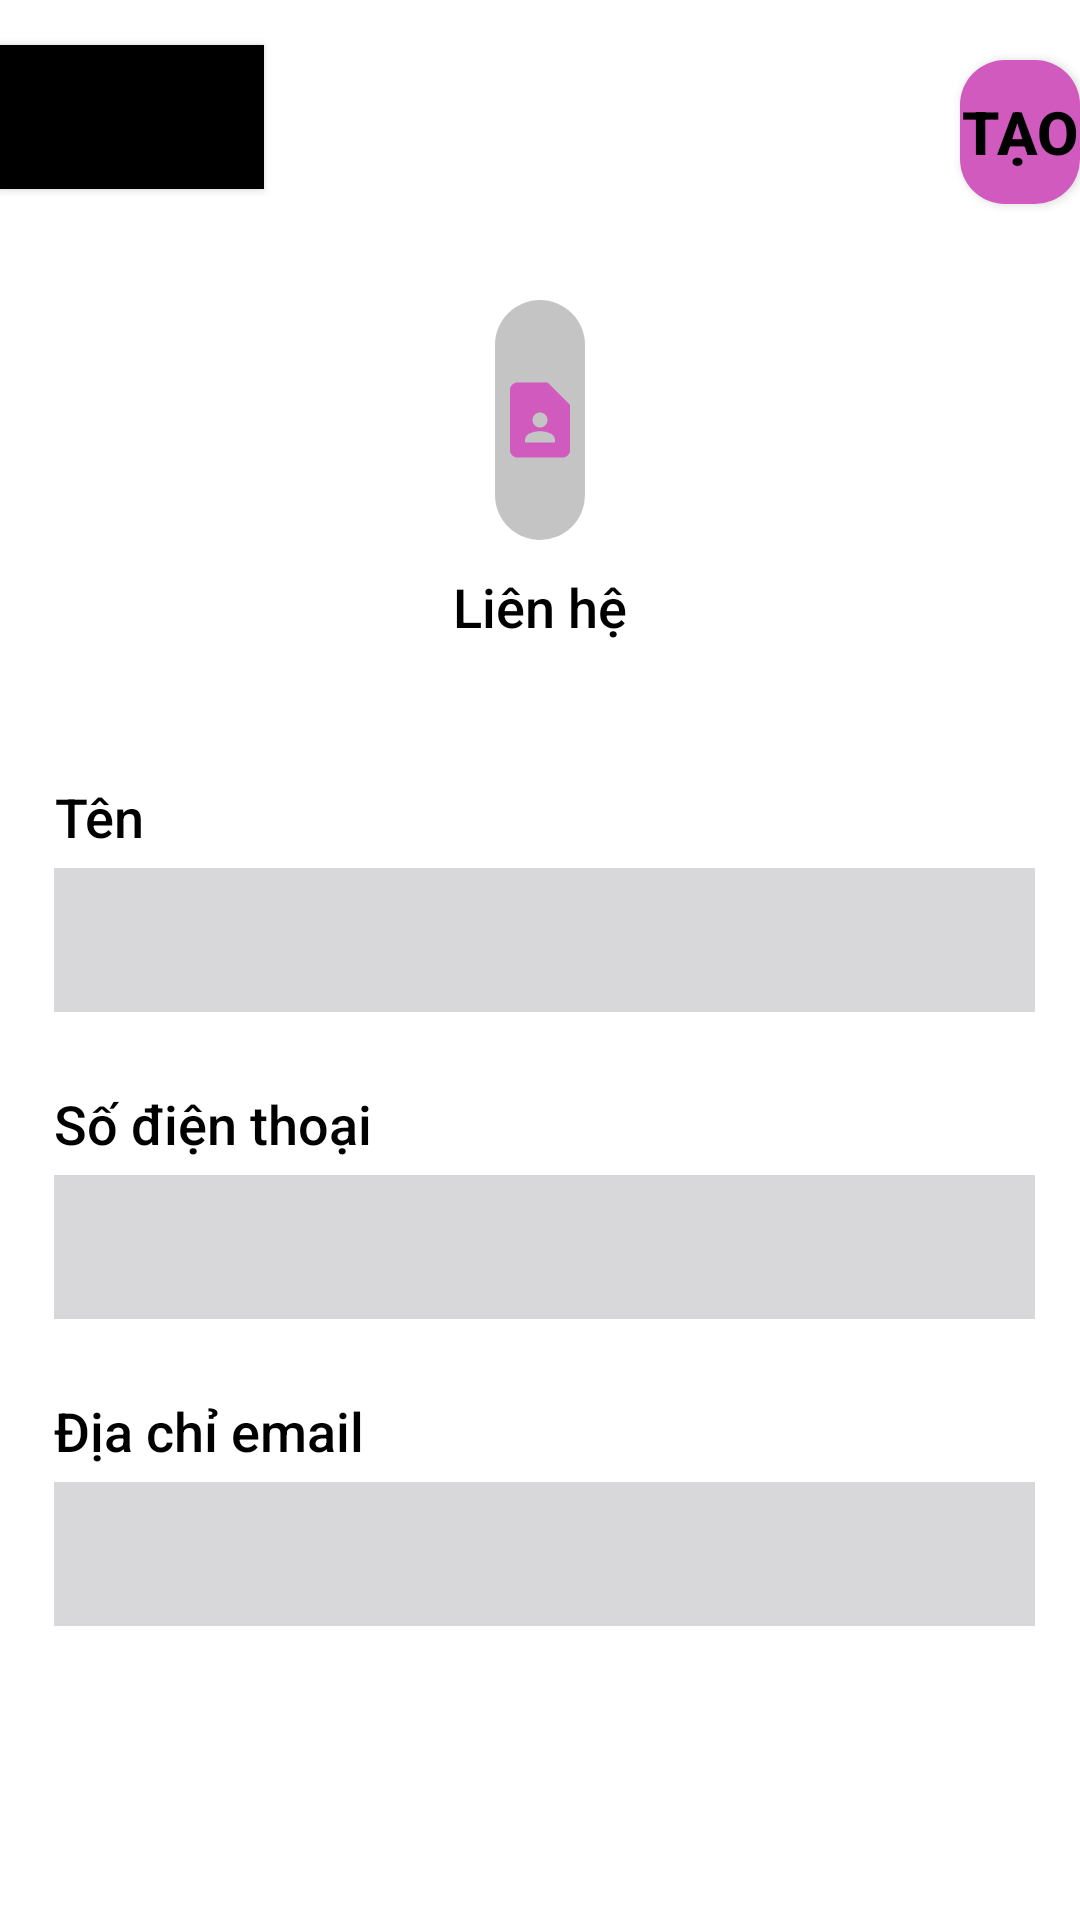

Named icons in this screenshot (1080w x 1920h) and their centers, (x,y):
contact: (540,420)
